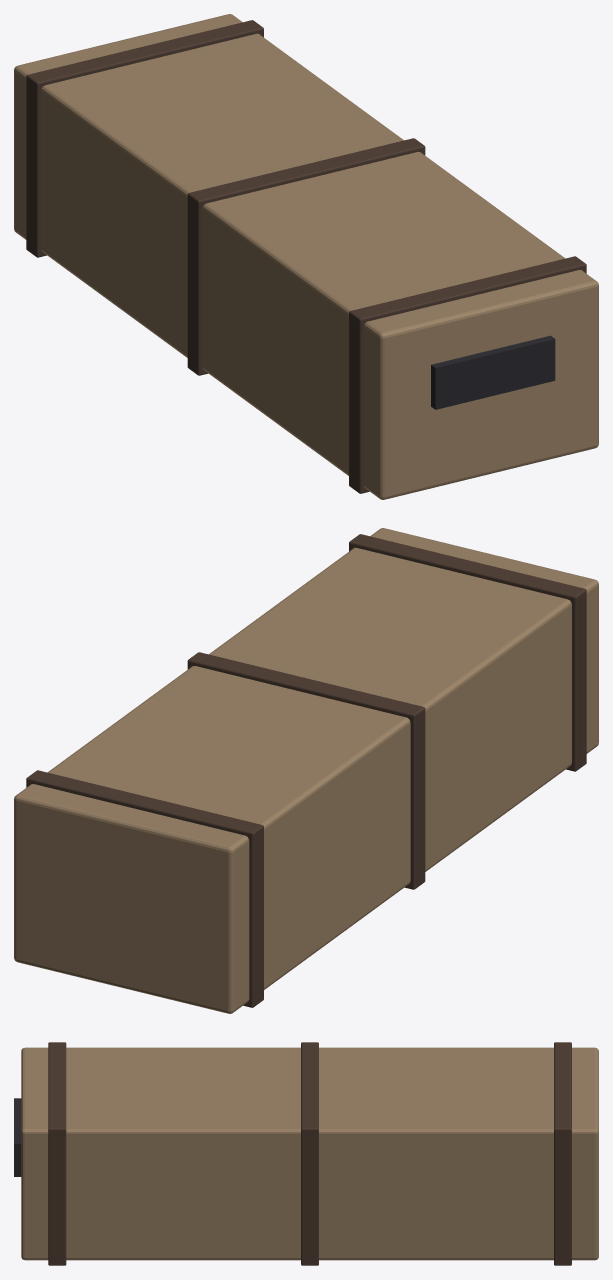
Rendered from crate_coffin_crate.glb.
3 renders of one model, top to bottom at view 1: azimuth 30°, elevation 25°; view 2: azimuth 150°, elevation 25°; view 3: azimuth 270°, elevation 25°, orthographic. The views are drawn at different scales.
Parts seen in each view (by area): view 1: GD_crate_coffin_crate__m0, GD_crate_coffin_crate__m1, GD_crate_coffin_crate__m2; view 2: GD_crate_coffin_crate__m0, GD_crate_coffin_crate__m1; view 3: GD_crate_coffin_crate__m0, GD_crate_coffin_crate__m1, GD_crate_coffin_crate__m2.
Boxes of the visible parts, bbox=[...] form: GD_crate_coffin_crate__m0: bbox=[14, 14, 598, 499]; GD_crate_coffin_crate__m1: bbox=[26, 20, 586, 493]; GD_crate_coffin_crate__m2: bbox=[431, 335, 555, 409]; GD_crate_coffin_crate__m0: bbox=[14, 528, 598, 1013]; GD_crate_coffin_crate__m1: bbox=[26, 534, 586, 1007]; GD_crate_coffin_crate__m0: bbox=[21, 1047, 598, 1260]; GD_crate_coffin_crate__m1: bbox=[48, 1042, 571, 1265]; GD_crate_coffin_crate__m2: bbox=[14, 1098, 21, 1176].
Size of the model in its own units: 0.57 by 0.42 by 1.62.
